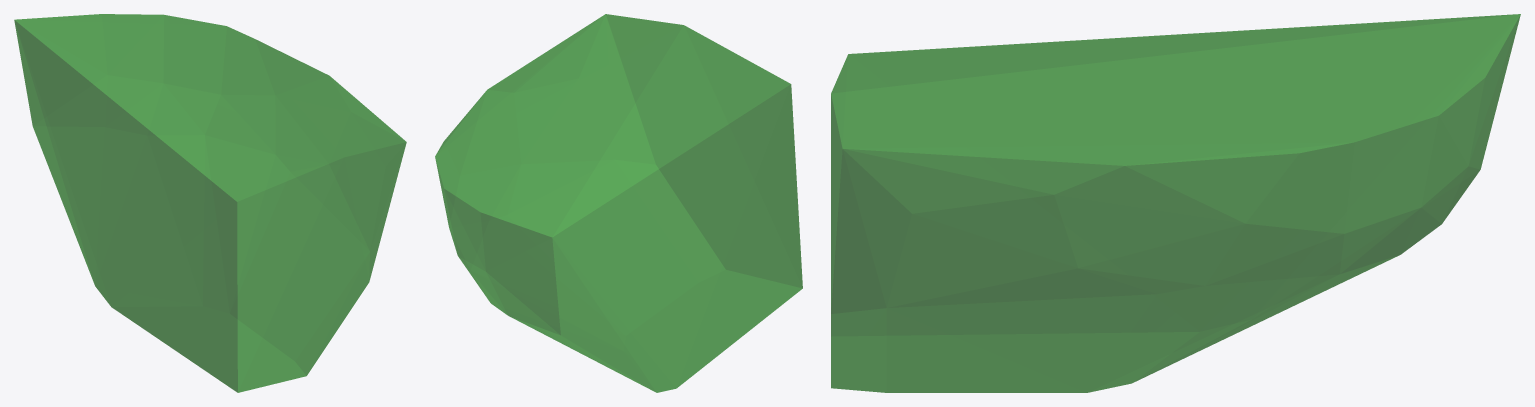
3 renders of one model, left to right at view 1: azimuth 30°, elevation 25°; view 2: azimuth 150°, elevation 25°; view 3: azimuth 270°, elevation 25°, orthographic. The views are drawn at different scales.
Parts seen in each view (by area): view 1: Shape_IndexedFaceSet.015_Shape_IndexedFaceSet.3353; view 2: Shape_IndexedFaceSet.015_Shape_IndexedFaceSet.3353; view 3: Shape_IndexedFaceSet.015_Shape_IndexedFaceSet.3353.
Part boxes in pixels (x1,y1,x2,y2): Shape_IndexedFaceSet.015_Shape_IndexedFaceSet.3353: (14,14,406,392); Shape_IndexedFaceSet.015_Shape_IndexedFaceSet.3353: (435,14,802,392); Shape_IndexedFaceSet.015_Shape_IndexedFaceSet.3353: (831,14,1520,392).
Size of the model in its own units: 0.2564 by 0.2654 by 0.5134.
